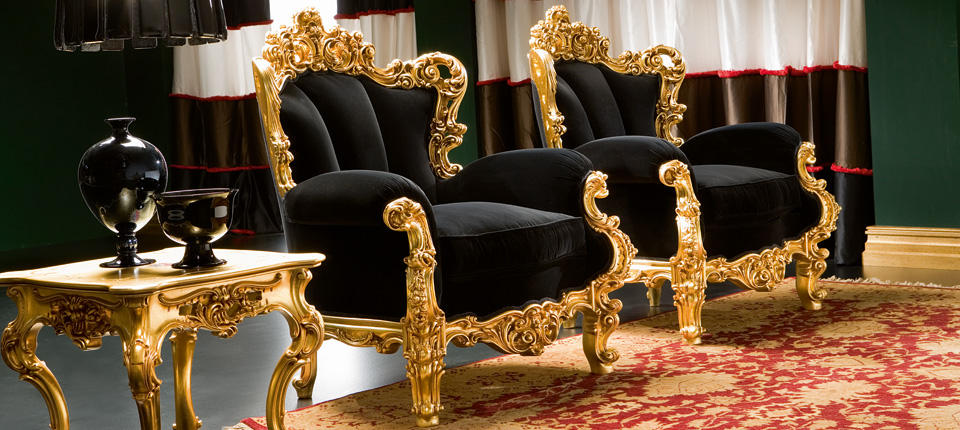Carving Chair: (238, 17, 631, 429), (529, 11, 869, 359)
